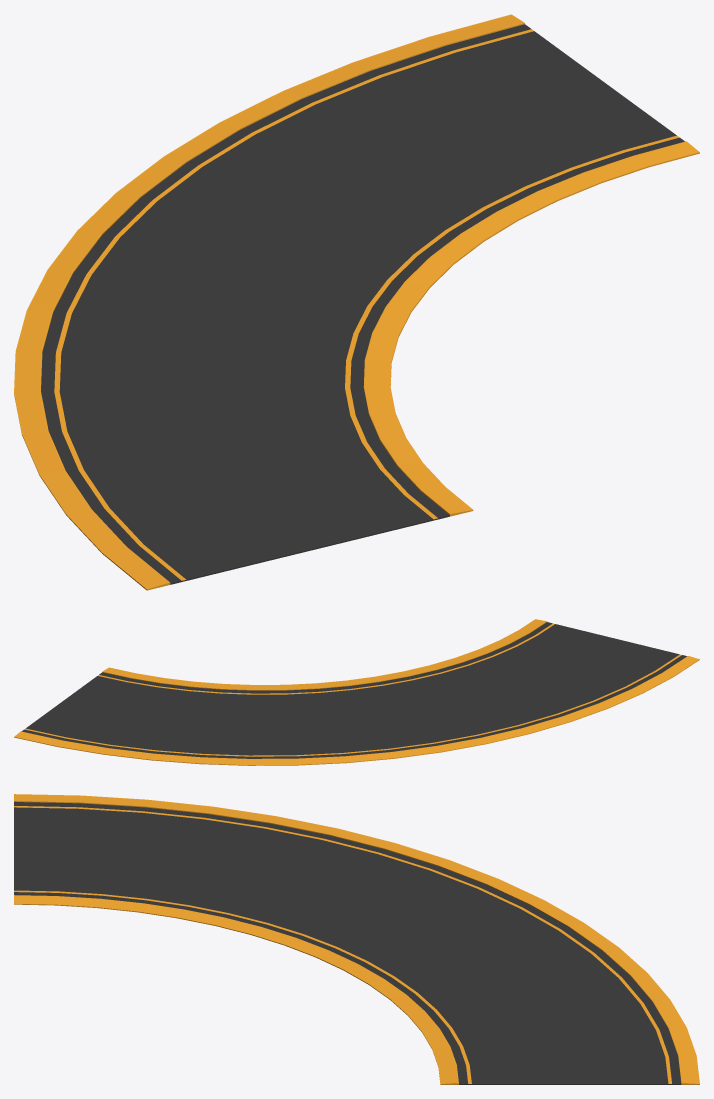
Rendered from SM_Racetrack_RunOff_Turn_40x40m.fbx.
The picture shows the model from 3 angles, top to bottom: view 1: azimuth 30°, elevation 25°; view 2: azimuth 150°, elevation 25°; view 3: azimuth 270°, elevation 25°; orthographic projection. The views are drawn at different scales.
Parts seen in each view (by area): view 1: SM_Racetrack_RunOff_Turn_40x40m; view 2: SM_Racetrack_RunOff_Turn_40x40m; view 3: SM_Racetrack_RunOff_Turn_40x40m.
Boxes of the visible parts, x1,y1,x2,y2 form: SM_Racetrack_RunOff_Turn_40x40m: [14, 14, 699, 590]; SM_Racetrack_RunOff_Turn_40x40m: [14, 619, 699, 765]; SM_Racetrack_RunOff_Turn_40x40m: [14, 794, 699, 1084].
Size of the model in its own units: 37 by 0.1 by 37.
